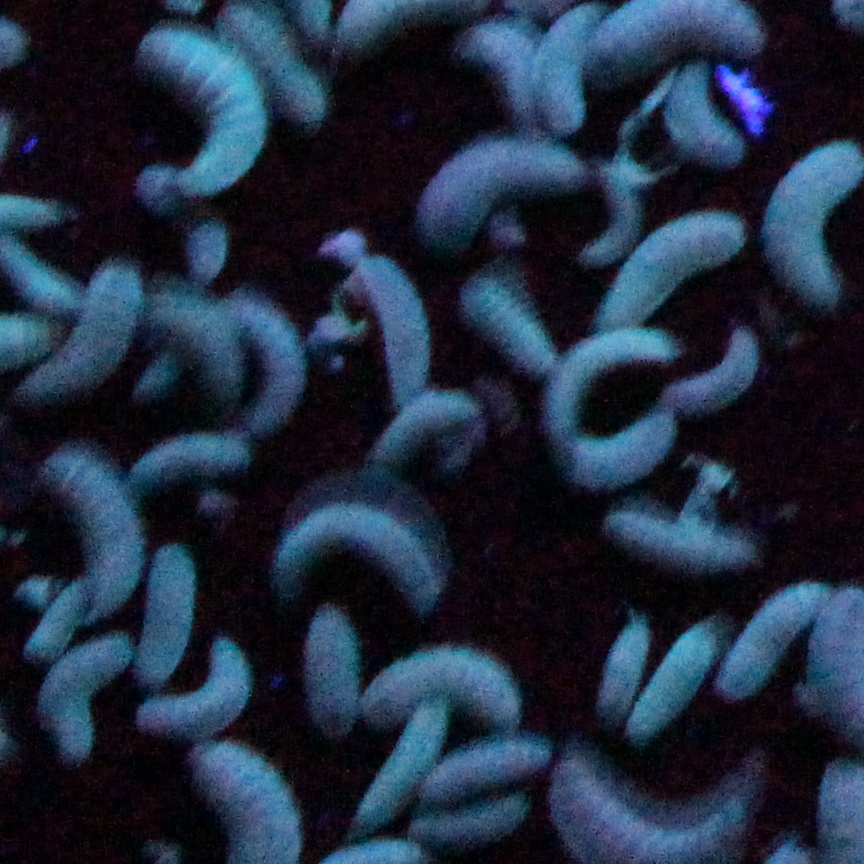larve: (550, 757, 767, 864), (125, 32, 265, 196), (268, 510, 461, 607), (43, 461, 147, 618), (358, 643, 515, 746), (415, 132, 579, 228), (15, 271, 136, 396), (190, 743, 315, 860), (768, 150, 850, 321), (600, 211, 725, 318), (547, 328, 672, 432), (361, 243, 433, 414), (229, 289, 308, 443), (140, 646, 268, 739), (40, 635, 122, 764), (347, 700, 440, 810), (418, 778, 543, 850), (622, 510, 768, 571), (433, 725, 543, 800), (636, 628, 718, 714), (297, 618, 358, 728), (543, 428, 686, 471), (468, 36, 529, 118), (600, 632, 650, 714)
